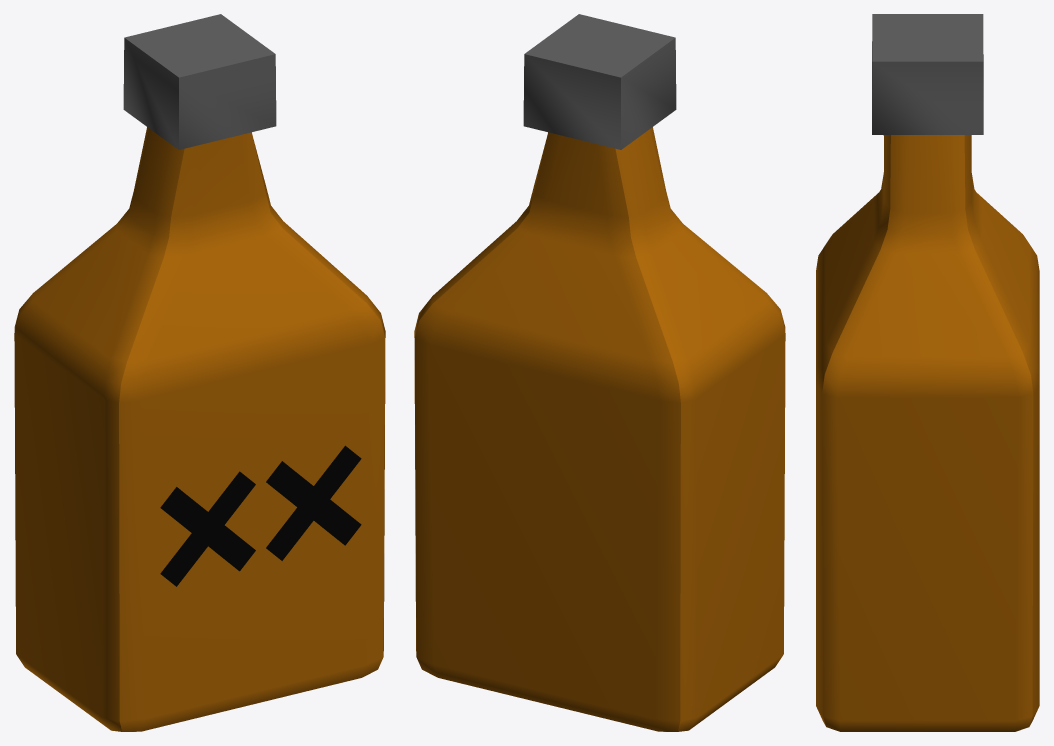
File: WhiskeyBottle.fbx
3 renders of one model, left to right at view 1: azimuth 30°, elevation 25°; view 2: azimuth 150°, elevation 25°; view 3: azimuth 270°, elevation 25°, orthographic.
Parts seen in each view (by area): view 1: WhiskeyBottle; view 2: WhiskeyBottle; view 3: WhiskeyBottle.
Part boxes in pixels (x1,y1,x2,y2): WhiskeyBottle: [14, 14, 385, 731]; WhiskeyBottle: [414, 14, 785, 731]; WhiskeyBottle: [816, 14, 1039, 731].
Bounding box in the file's own units: 0.7869 × 1.68 × 0.5387.
